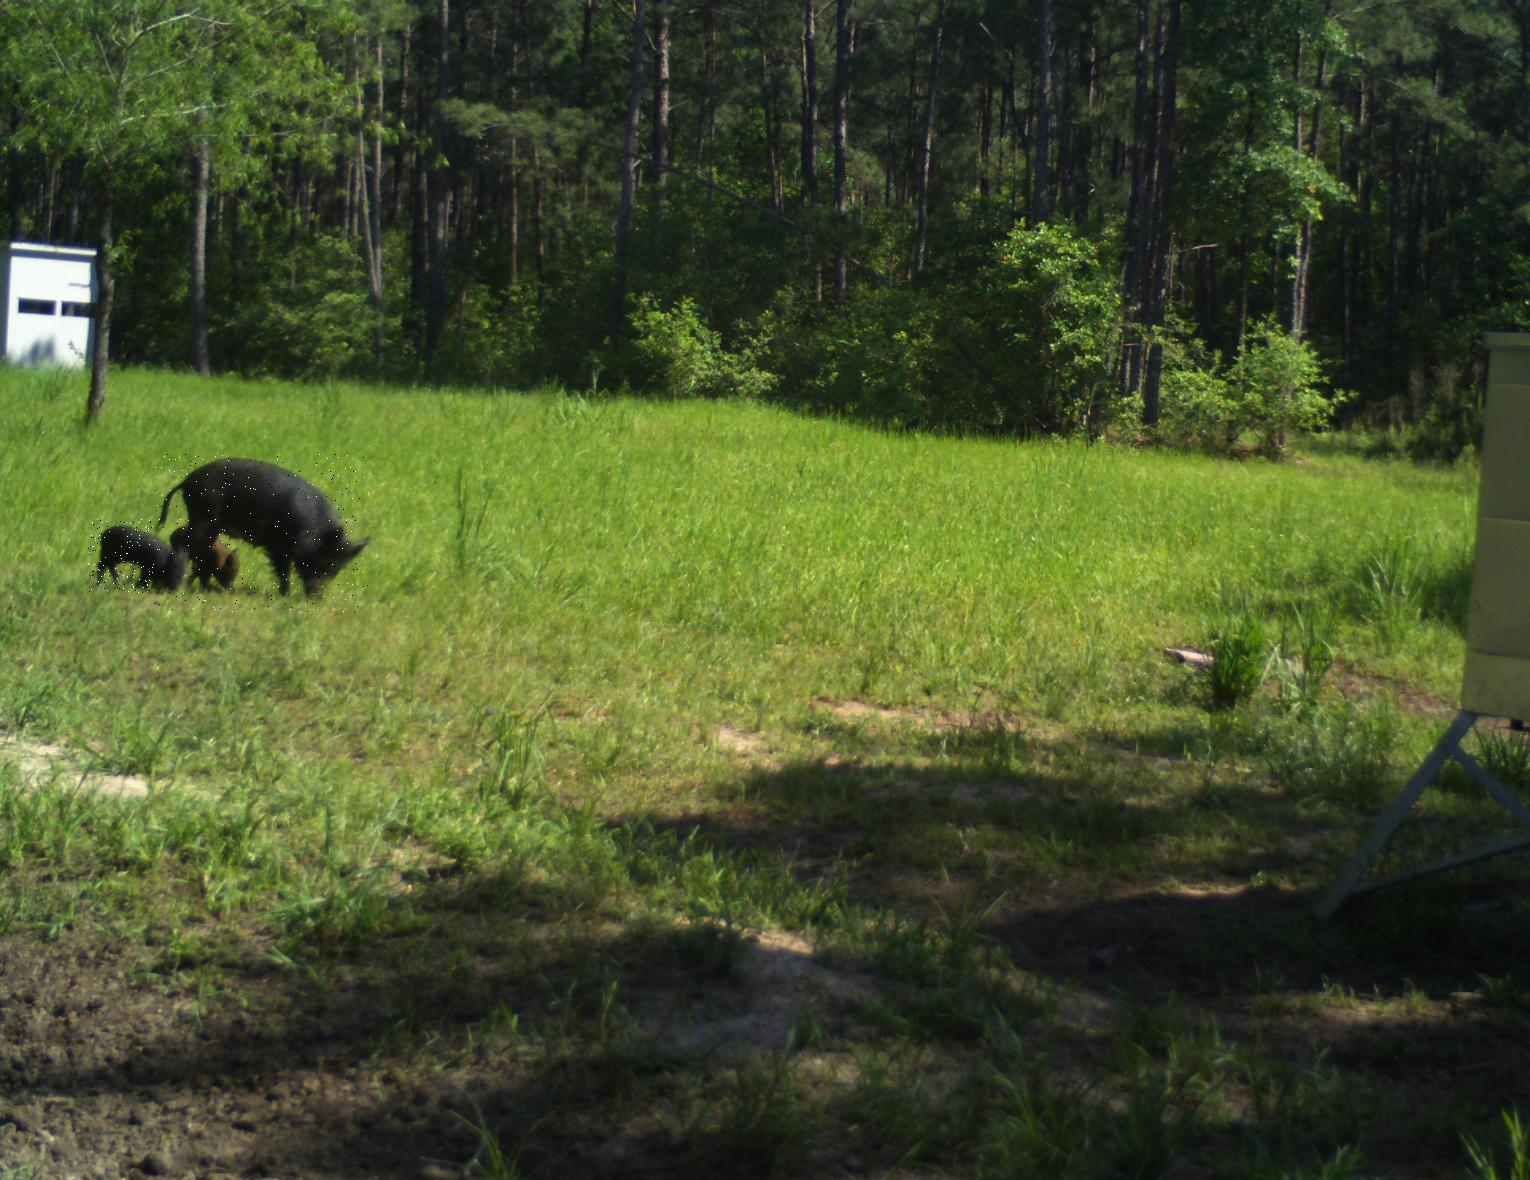Hog: (154, 454, 370, 612), (88, 519, 193, 592)
